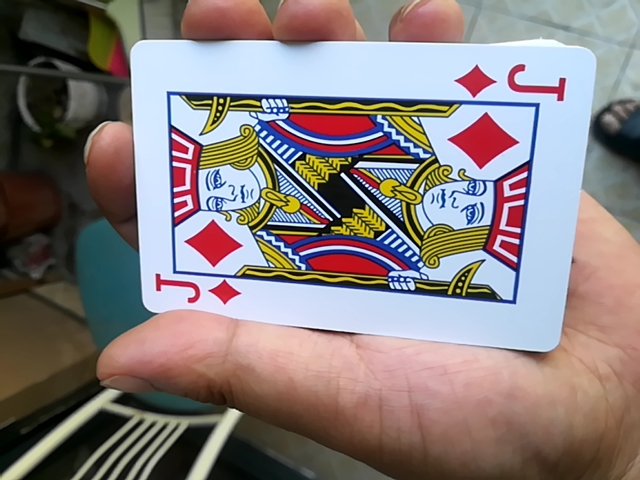fk j: (121, 37, 579, 350)
